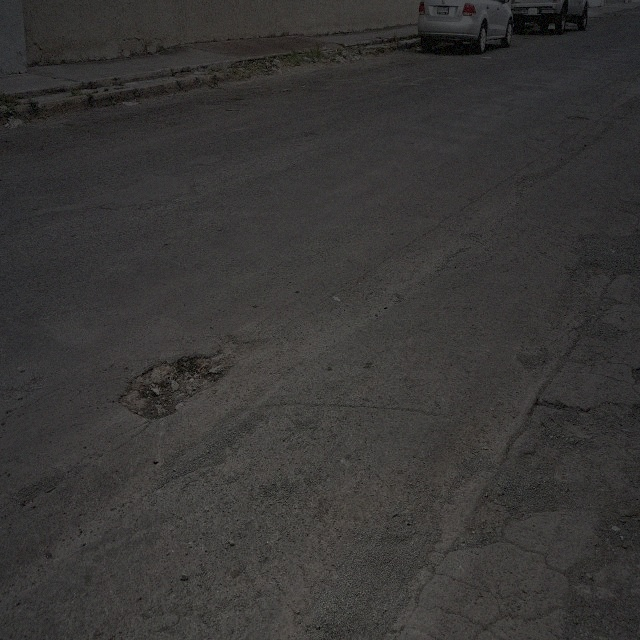pothole: (476, 404, 607, 540), (115, 333, 240, 433)
